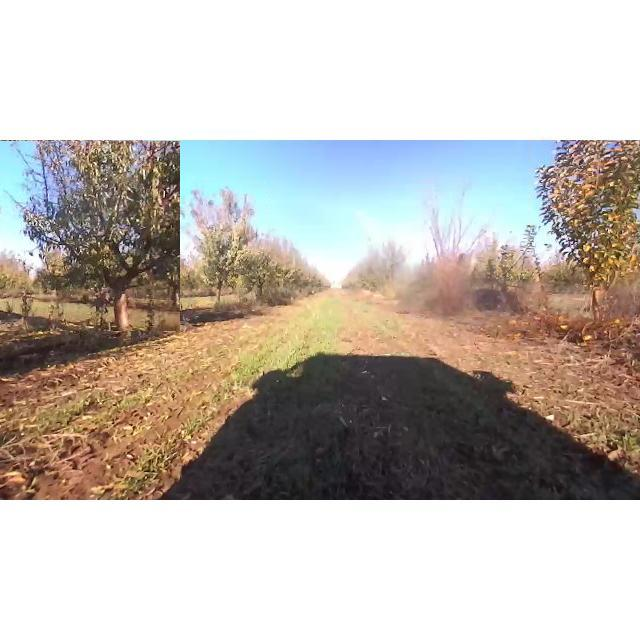direk: (0, 141, 180, 331), (530, 140, 640, 326), (408, 186, 496, 318), (192, 182, 266, 310)
